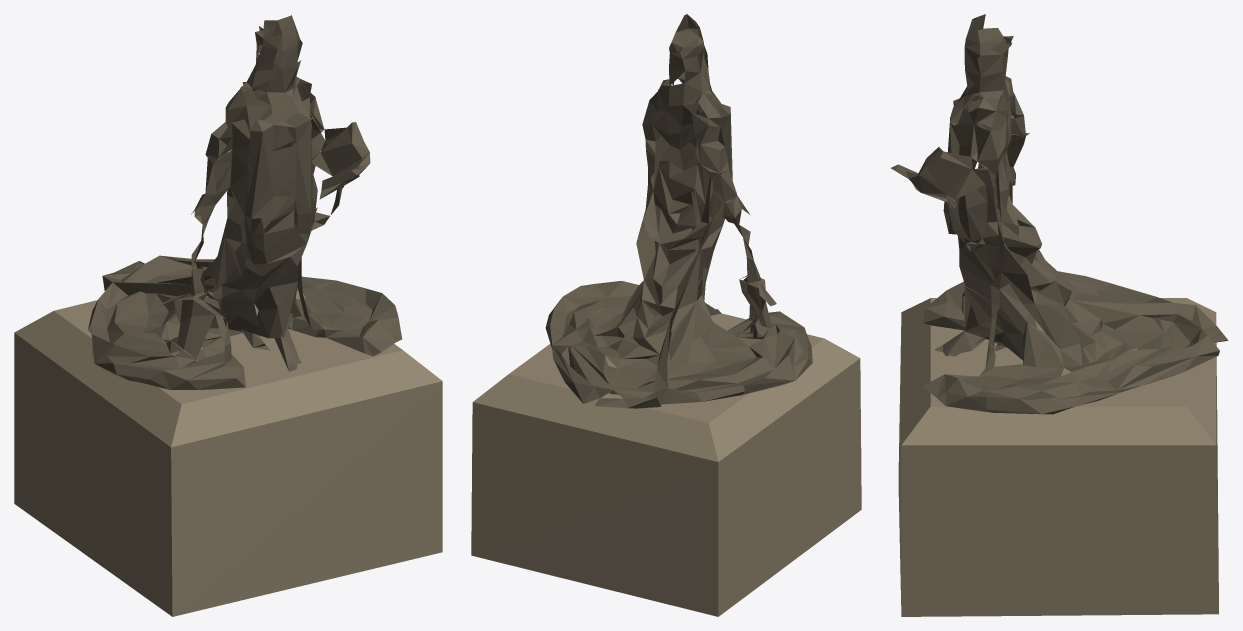
Rendered from statue-knight-lod1.glb.
3 views of the same model, side by side, from view 1: azimuth 30°, elevation 25°; view 2: azimuth 150°, elevation 25°; view 3: azimuth 270°, elevation 25° (orthographic). The views are drawn at different scales.
Bounding box in the file's own units: 2.2 × 4.1 × 2.32.
